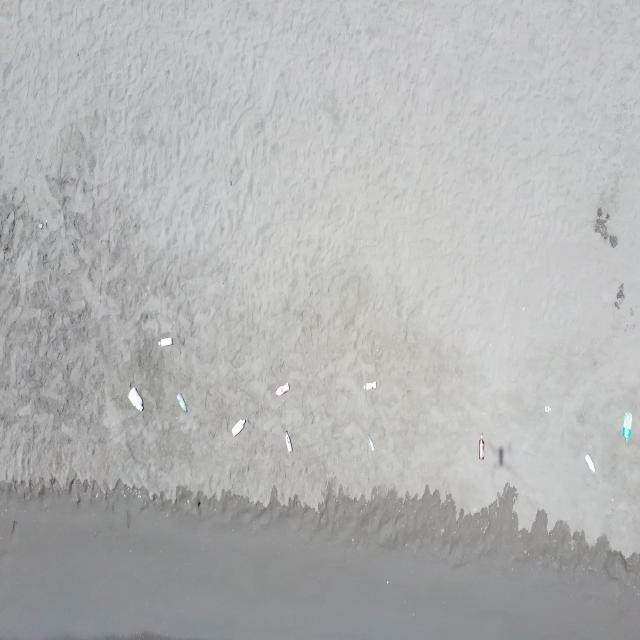plastic-bottle: (127, 387, 144, 414), (622, 412, 633, 444), (274, 381, 290, 399), (231, 418, 246, 437), (177, 392, 188, 414), (366, 430, 375, 456), (284, 430, 293, 456), (158, 335, 174, 349), (478, 431, 485, 462), (585, 452, 595, 473), (362, 380, 378, 392), (542, 404, 552, 414)
